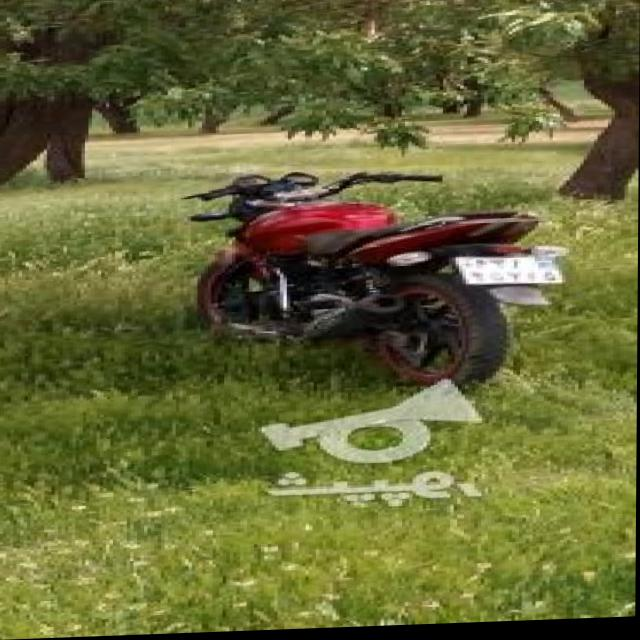licence: (449, 252, 577, 289)
